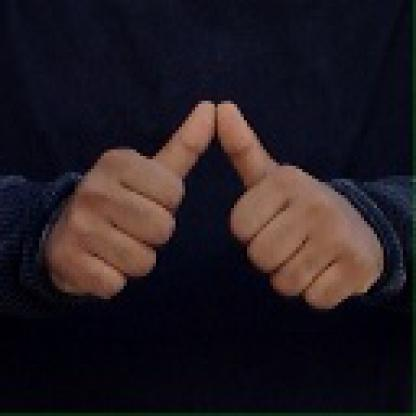A: (50, 97, 368, 312)
